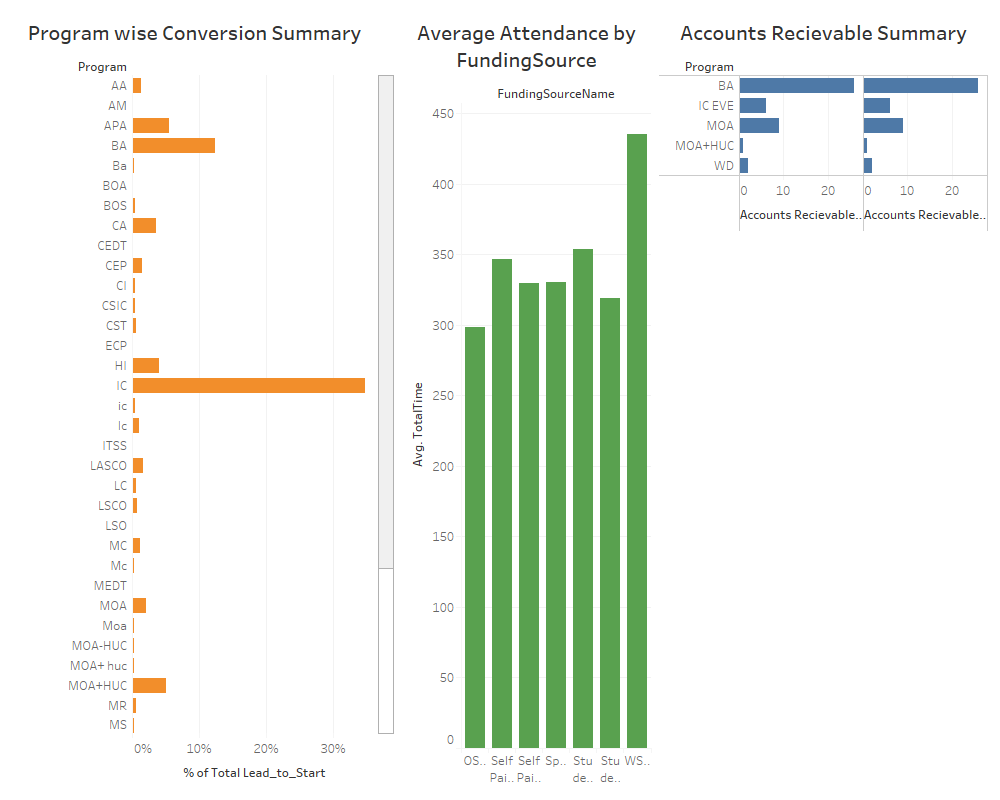

The dashboard page shown, as its layout file describes it:
{"tool":"tableau","page":{"name":"HomePage","canvas":[1000,800],"ordinal":3},"visuals":[{"type":"worksheet","title":"Home_Adm","mark":"Automatic","rows":["Program"],"box":[8,8,390,784]},{"type":"worksheet","title":"Home_Attn","mark":"Automatic","rows":["TotalTime"],"cols":["FundingSourceName"],"box":[398,8,257,784]},{"type":"worksheet","title":"Home_Fin","mark":"Automatic","rows":["Program"],"cols":["F1 (FIN_df2.csv)","F1 (FIN_df3.csv)"],"box":[655,8,337,784]}]}

Visuals, with their boxes in screenshot pixels (x1, y1, x2, y2), scaled from the page's 1000x800 canvas onto the 1000x800 screenshot:
"Home_Adm" worksheet: {"x1": 8, "y1": 8, "x2": 398, "y2": 792}
"Home_Attn" worksheet: {"x1": 398, "y1": 8, "x2": 655, "y2": 792}
"Home_Fin" worksheet: {"x1": 655, "y1": 8, "x2": 992, "y2": 792}
